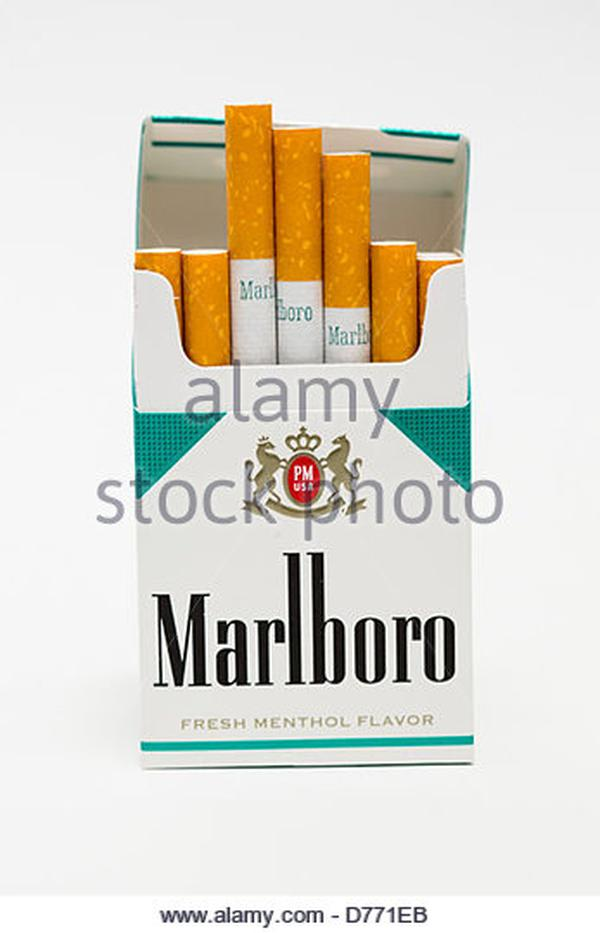marlboro_mentol: (135, 273, 466, 767)
